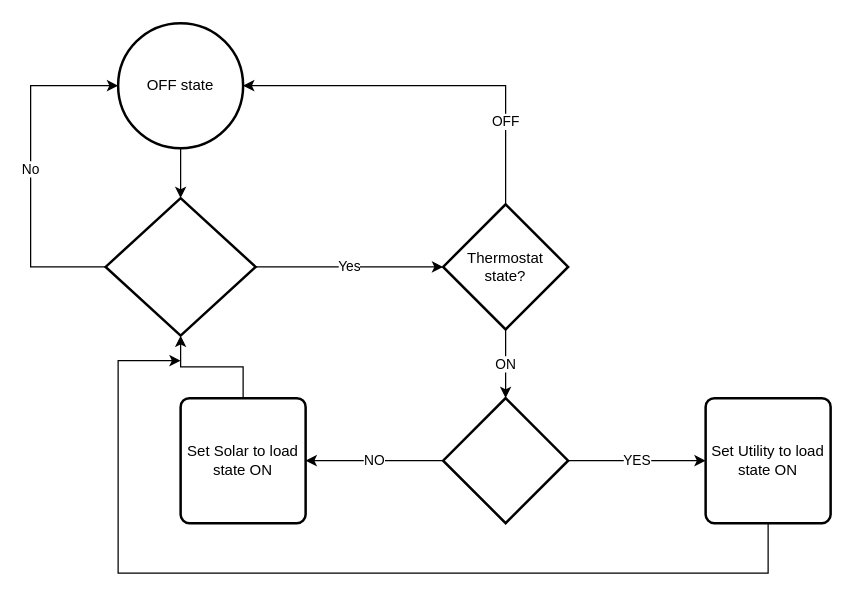
Some shapes in this 854 by 605 pixel diagram are drawn without their labels. Here are the shapes that lost their labels. From the top down, the centre of each, then its label:
At [180,266]: "Is power Available?".
At [505,460]: "Is Utility available?".
